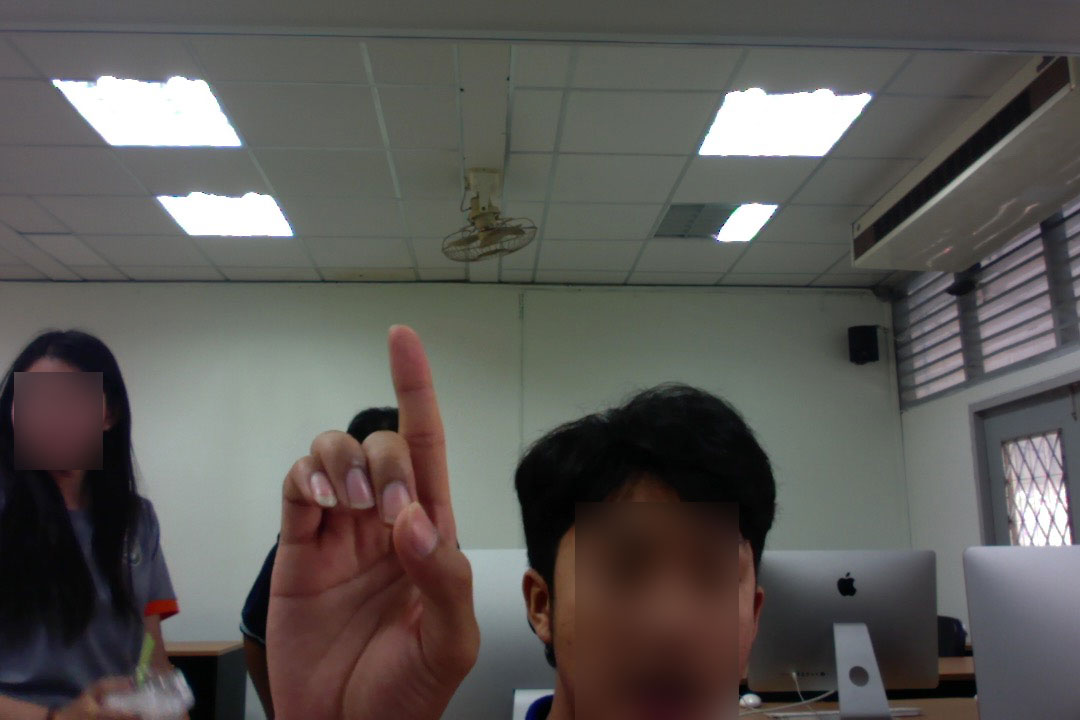dor: (257, 309, 484, 719)
